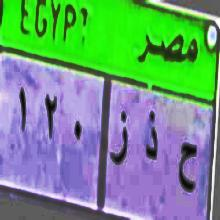0: (72, 119, 84, 151)
1: (15, 85, 29, 132)
2: (44, 91, 58, 141)
7aa: (178, 141, 197, 201)
zaal: (142, 108, 159, 164)
zay: (109, 109, 129, 171)
